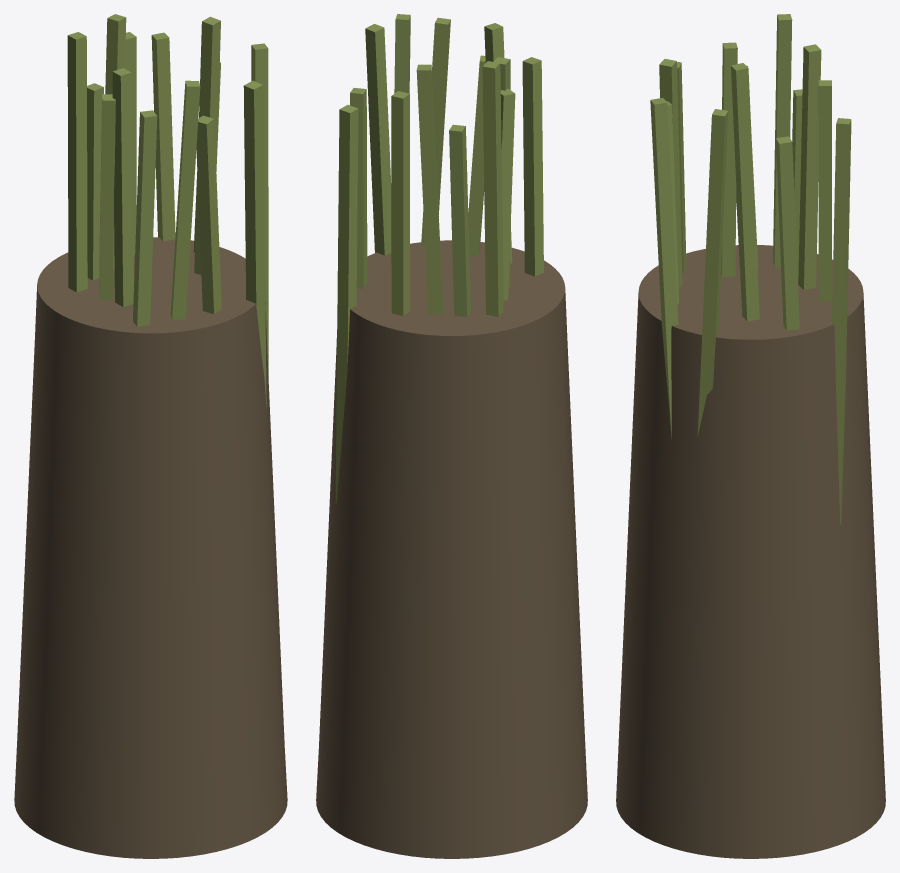
File: e12-pollarded-willow.glb
3 views of the same model, side by side, from view 1: azimuth 30°, elevation 25°; view 2: azimuth 150°, elevation 25°; view 3: azimuth 270°, elevation 25° (orthographic).
Parts seen in each view (by area): view 1: part0, part7, part13, part9, part10, part11, part12, part3, part8, part6, part1, part14 (+2 smaller); view 2: part0, part3, part7, part14, part10, part4, part5, part6, part13, part8, part2, part12 (+2 smaller); view 3: part0, part3, part14, part1, part13, part5, part2, part4, part9, part7, part11, part6 (+2 smaller).
Boxes of the visible parts, x1=… form: part0: x1=14, y1=237, x2=287, y2=858; part7: x1=67, y1=32, x2=87, y2=292; part13: x1=243, y1=80, x2=266, y2=407; part9: x1=112, y1=68, x2=133, y2=306; part10: x1=133, y1=110, x2=157, y2=326; part11: x1=170, y1=80, x2=200, y2=319; part12: x1=196, y1=115, x2=221, y2=313; part3: x1=151, y1=32, x2=175, y2=241; part8: x1=99, y1=94, x2=115, y2=299; part6: x1=87, y1=83, x2=103, y2=280; part1: x1=194, y1=16, x2=220, y2=274; part14: x1=251, y1=43, x2=268, y2=376; part0: x1=316, y1=240, x2=587, y2=858; part3: x1=335, y1=105, x2=358, y2=503; part7: x1=482, y1=61, x2=503, y2=316; part14: x1=365, y1=24, x2=391, y2=255; part10: x1=522, y1=57, x2=543, y2=276; part4: x1=391, y1=91, x2=409, y2=315; part5: x1=416, y1=64, x2=443, y2=314; part6: x1=449, y1=124, x2=470, y2=317; part13: x1=421, y1=17, x2=450, y2=245; part8: x1=500, y1=88, x2=515, y2=300; part2: x1=350, y1=88, x2=367, y2=288; part12: x1=468, y1=55, x2=485, y2=256; part0: x1=616, y1=245, x2=885, y2=858; part3: x1=832, y1=118, x2=851, y2=524; part14: x1=697, y1=109, x2=728, y2=436; part1: x1=731, y1=63, x2=759, y2=321; part13: x1=650, y1=98, x2=678, y2=438; part5: x1=798, y1=44, x2=821, y2=289; part2: x1=776, y1=136, x2=799, y2=330; part4: x1=818, y1=80, x2=831, y2=301; part9: x1=721, y1=42, x2=737, y2=276; part7: x1=773, y1=14, x2=792, y2=267; part11: x1=659, y1=59, x2=682, y2=288; part6: x1=792, y1=89, x2=802, y2=278.
Bounding box in the file's own units: 1199 × 3737 × 1200.
